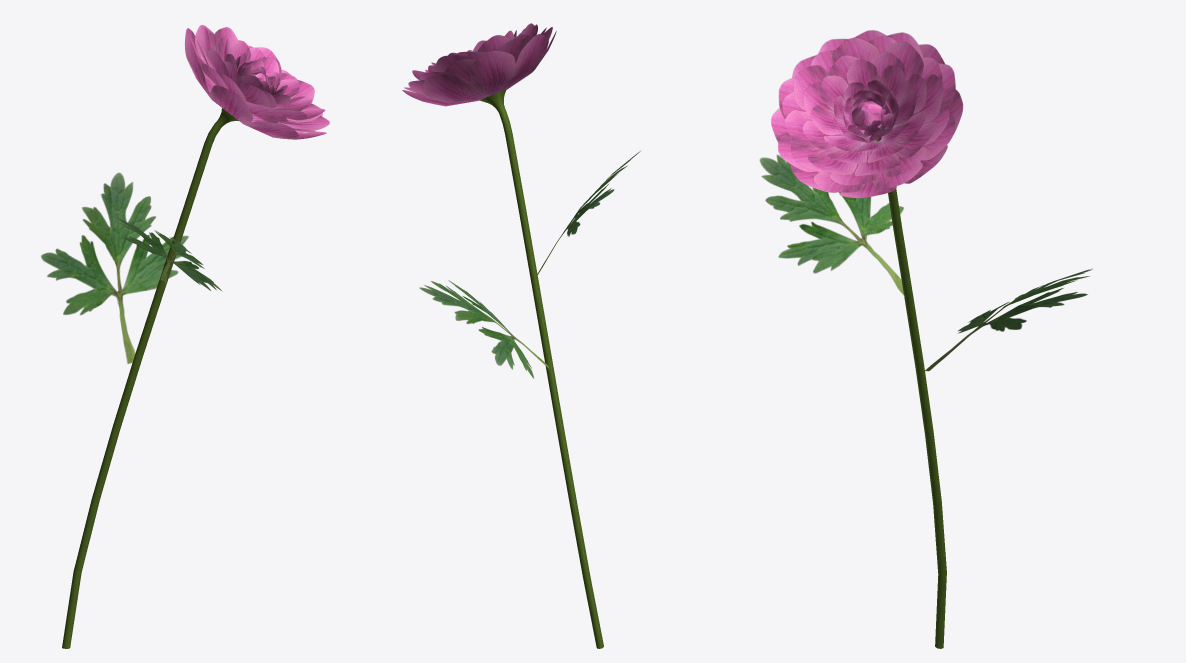
The model's file is flor_rosa_2.glb.
3 views of the same model, side by side, from view 1: azimuth 30°, elevation 25°; view 2: azimuth 150°, elevation 25°; view 3: azimuth 270°, elevation 25° (orthographic). The views are drawn at different scales.
Parts seen in each view (by area): view 1: Cylinder.005; view 2: Cylinder.005; view 3: Cylinder.005.
Boxes of the visible parts, <box> form: Cylinder.005: <box>41,25,329,648</box>; Cylinder.005: <box>402,23,640,648</box>; Cylinder.005: <box>759,30,1092,648</box>.
Size of the model in its own units: 0.1651 by 0.3792 by 0.2397.
2 materials, 2 textured.
